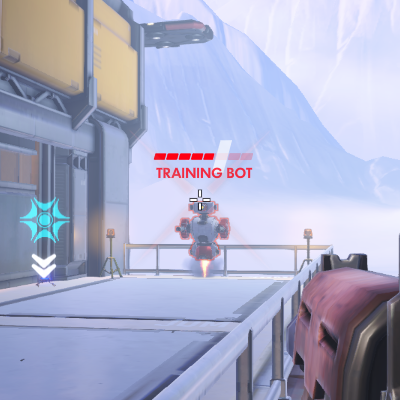hpbar: (154, 153, 253, 160)
